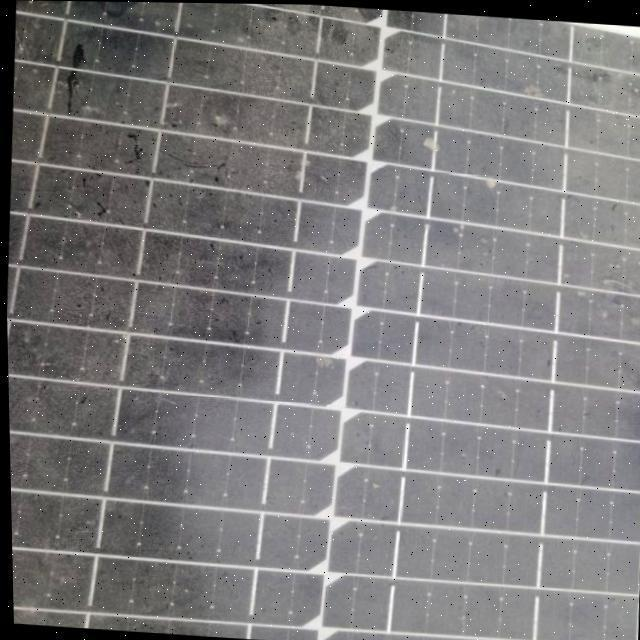Surface Contaminant: (15, 6, 640, 640)
